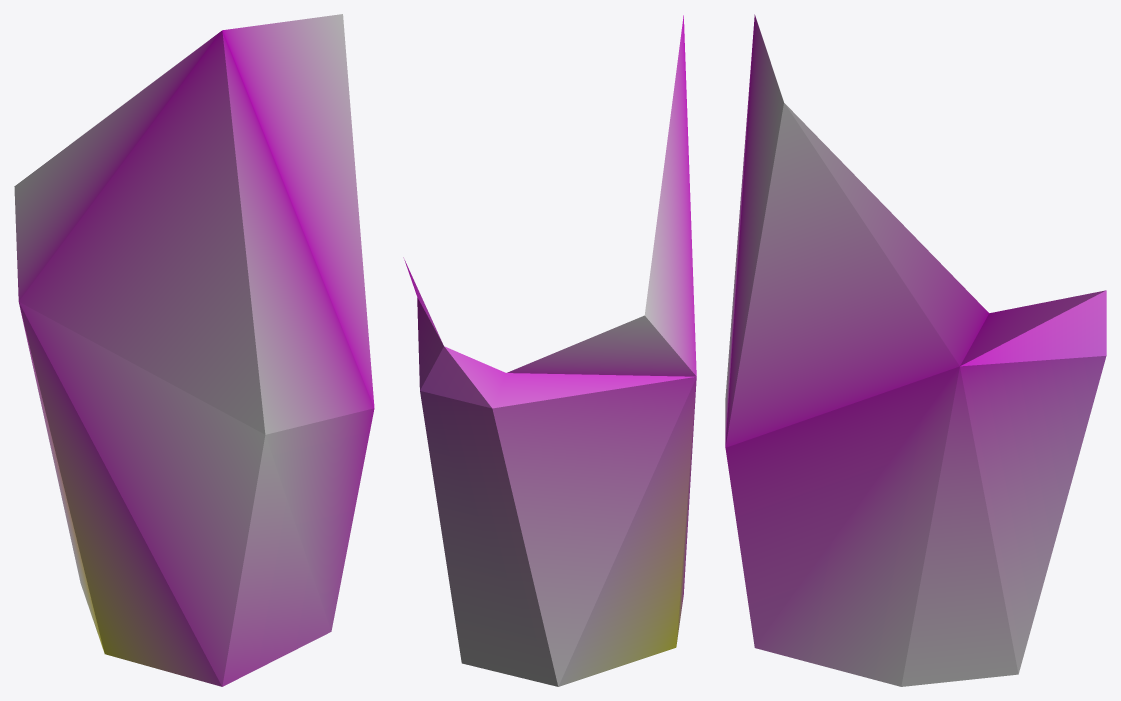
3 renders of one model, left to right at view 1: azimuth 30°, elevation 25°; view 2: azimuth 150°, elevation 25°; view 3: azimuth 270°, elevation 25°, orthographic. The views are drawn at different scales.
Visible parts, largest first — view 1: model_1103; view 2: model_1103; view 3: model_1103.
Part boxes in pixels (x1,y1,x2,y2): model_1103: (14,14,374,686); model_1103: (403,15,696,686); model_1103: (725,14,1106,686).
Size of the model in its own units: 11 by 23 by 13.
